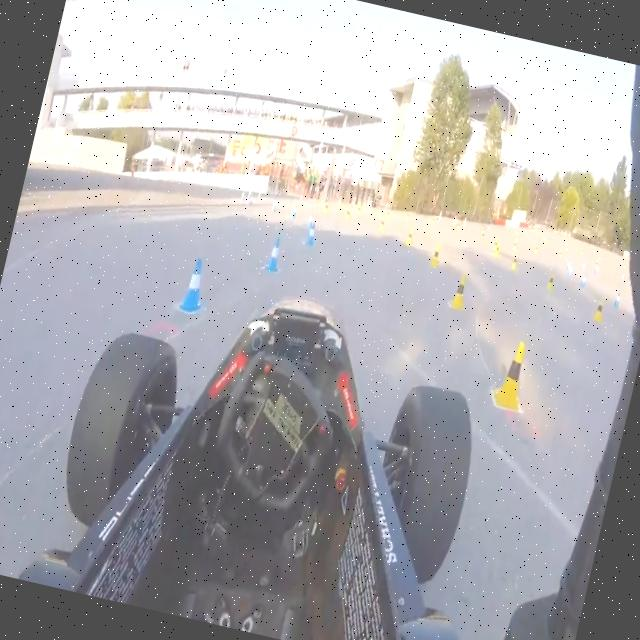blue_cone: (178, 254, 212, 320), (264, 236, 286, 275), (305, 221, 319, 247), (612, 292, 622, 308), (290, 204, 298, 220), (579, 276, 586, 289), (567, 266, 573, 276)
yellow_cone: (490, 334, 534, 414), (448, 272, 470, 312), (429, 244, 444, 268), (591, 299, 605, 324), (403, 228, 415, 248), (510, 254, 520, 272), (376, 218, 386, 235), (546, 276, 554, 292), (322, 202, 329, 215), (494, 244, 501, 256), (492, 239, 498, 251), (345, 209, 351, 221)
